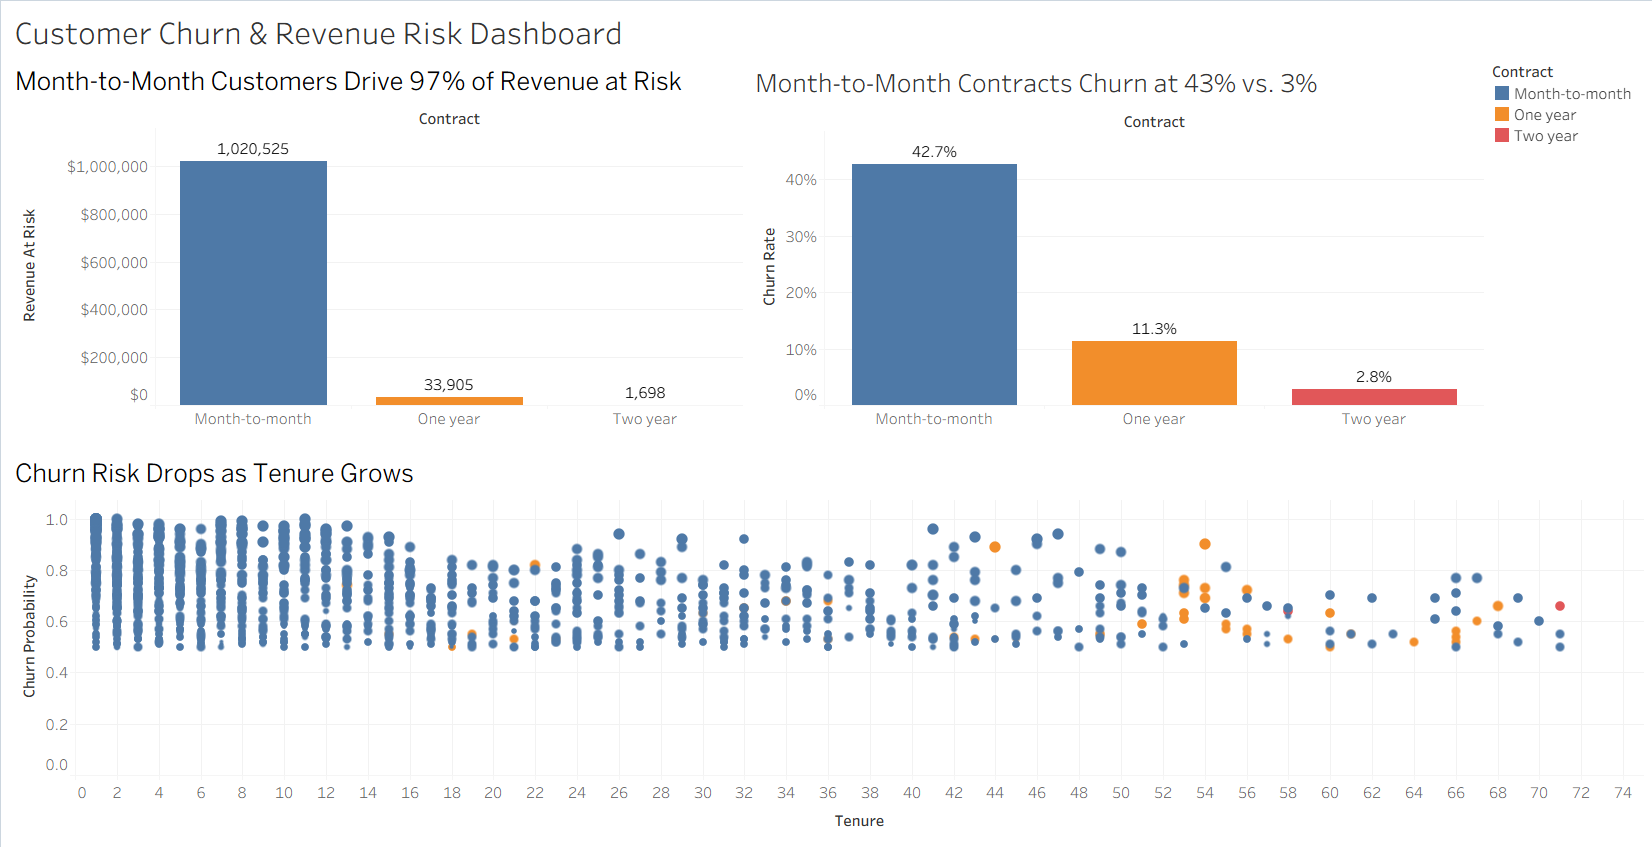

Layout of this report page (visuals, bound fields, positions):
{"tool":"tableau","page":{"name":"Customer Churn & Revenue Risk Dashboard","canvas":[1000,1000],"units":"permille","ordinal":0},"visuals":[{"type":"title","box":[4.8,9.4,990.3,58.8]},{"type":"worksheet","title":"Revenue at Risk","mark":"Automatic","rows":["revenue_at_risk"],"cols":["contract"],"box":[4.8,68.2,446.9,461.2]},{"type":"worksheet","title":"Month-to-Month Contracts Churn at 43% vs. 3%","mark":"Automatic","rows":["actual_churn"],"cols":["contract"],"box":[451.7,68.2,446.9,461.2]},{"type":"legend","title":"Revenue at Risk","param":"[federated.0uy8kgw1dr5iqw1gj06nf1tf1xnx].[none:contract:nk]","box":[898.6,68.2,96.6,425.4]},{"type":"worksheet","title":"Churn Probability","mark":"Circle","rows":["churn_probability"],"cols":["tenure"],"box":[4.8,529.4,990.3,461.2]}]}

Visuals, with their boxes on the dashboard's canvas, which has no fixed pixel size, in thousandths of its width and height (x1, y1, x2, y2). These are canvas units, not pixel positions in the 1652x847 screenshot, which may show the page scaled, cropped or inside an application window:
title: [x1=5, y1=9, x2=995, y2=68]
"Revenue at Risk" worksheet: [x1=5, y1=68, x2=452, y2=529]
"Month-to-Month Contracts Churn at 43% vs. 3%" worksheet: [x1=452, y1=68, x2=899, y2=529]
"Revenue at Risk" legend: [x1=899, y1=68, x2=995, y2=494]
"Churn Probability" worksheet (Circle marks): [x1=5, y1=529, x2=995, y2=991]
